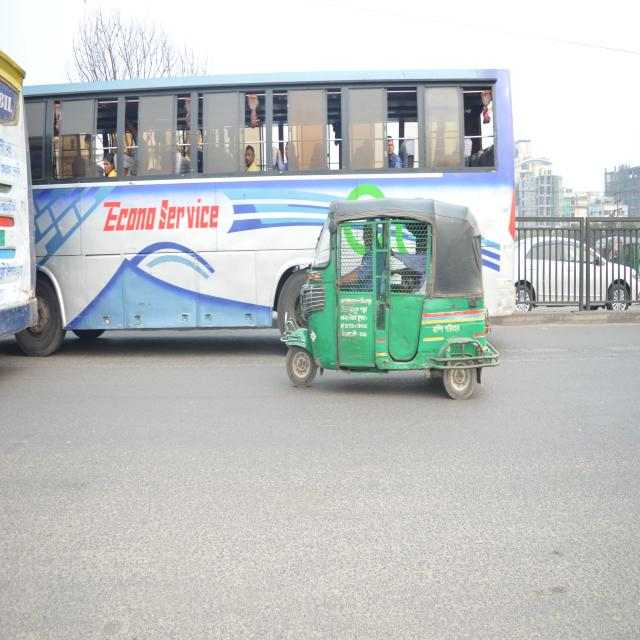bus: (36, 58, 533, 341)
